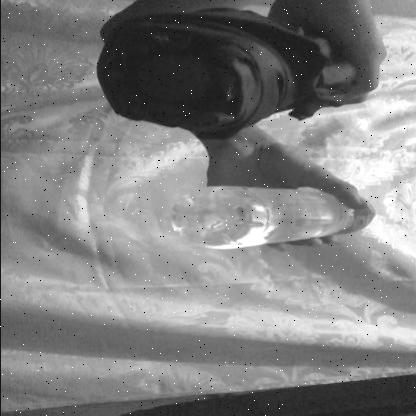Plastic Bottle: (126, 173, 377, 261)
